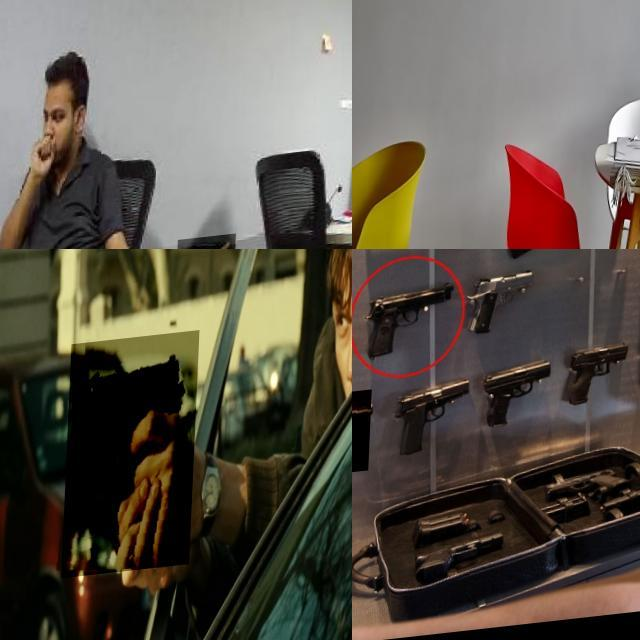gun-knife-thesis - v11 Yolov5 augmented: (66, 336, 202, 581), (352, 249, 640, 337), (382, 249, 640, 332), (362, 264, 464, 376), (394, 371, 474, 470), (556, 336, 636, 426), (480, 358, 557, 438), (466, 265, 534, 342), (352, 391, 402, 482)
